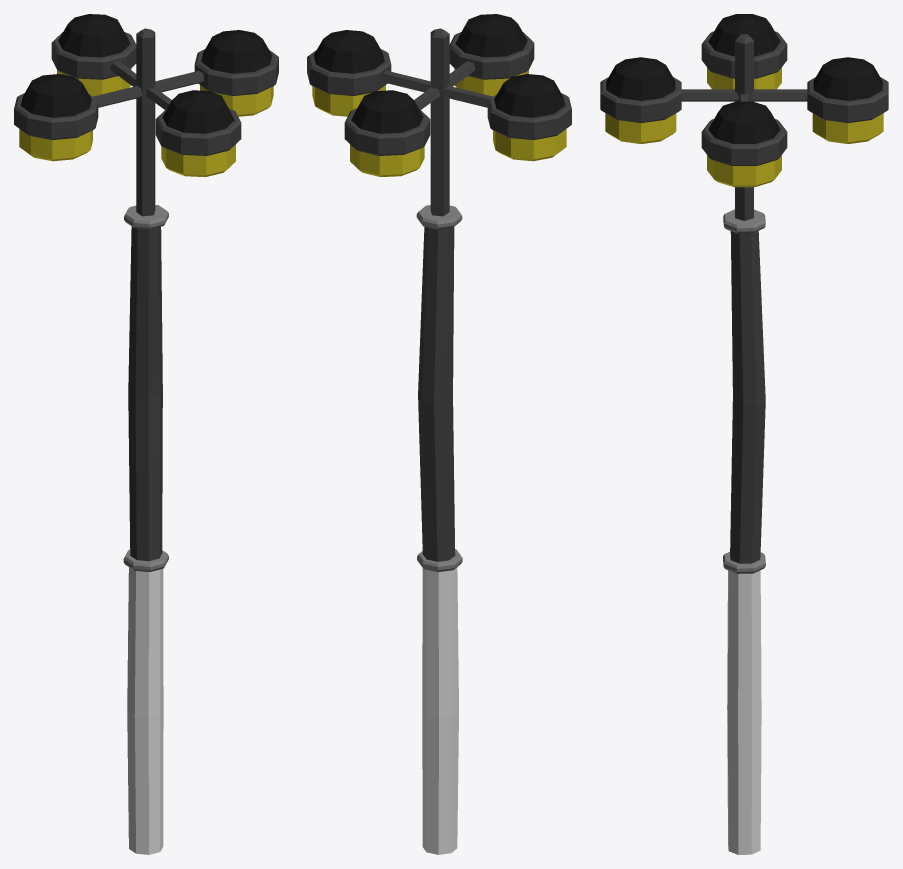
Rendered from SM_lamp_street_02.fbx.
3 views of the same model, side by side, from view 1: azimuth 30°, elevation 25°; view 2: azimuth 150°, elevation 25°; view 3: azimuth 270°, elevation 25° (orthographic).
Parts seen in each view (by area): view 1: Object32375; view 2: Object32375; view 3: Object32375.
Boxes of the visible parts, <box> form: Object32375: <box>14,14,278,854</box>; Object32375: <box>307,14,571,854</box>; Object32375: <box>600,14,888,854</box>.
Bounding box in the file's own units: 62.56 × 194 × 62.56.
